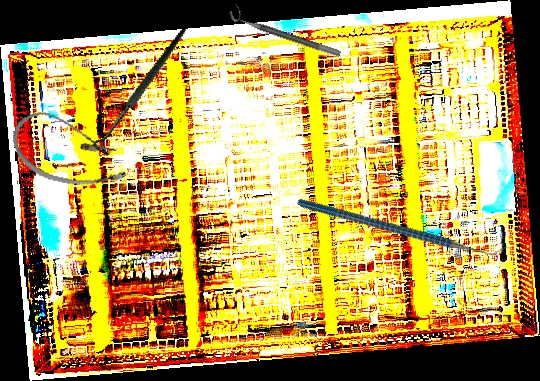Cannula: (6, 106, 135, 196)
Chopper: (296, 135, 511, 317)
Fixation Ring: (227, 3, 345, 58)
Hook Surgical: (64, 27, 222, 160)
